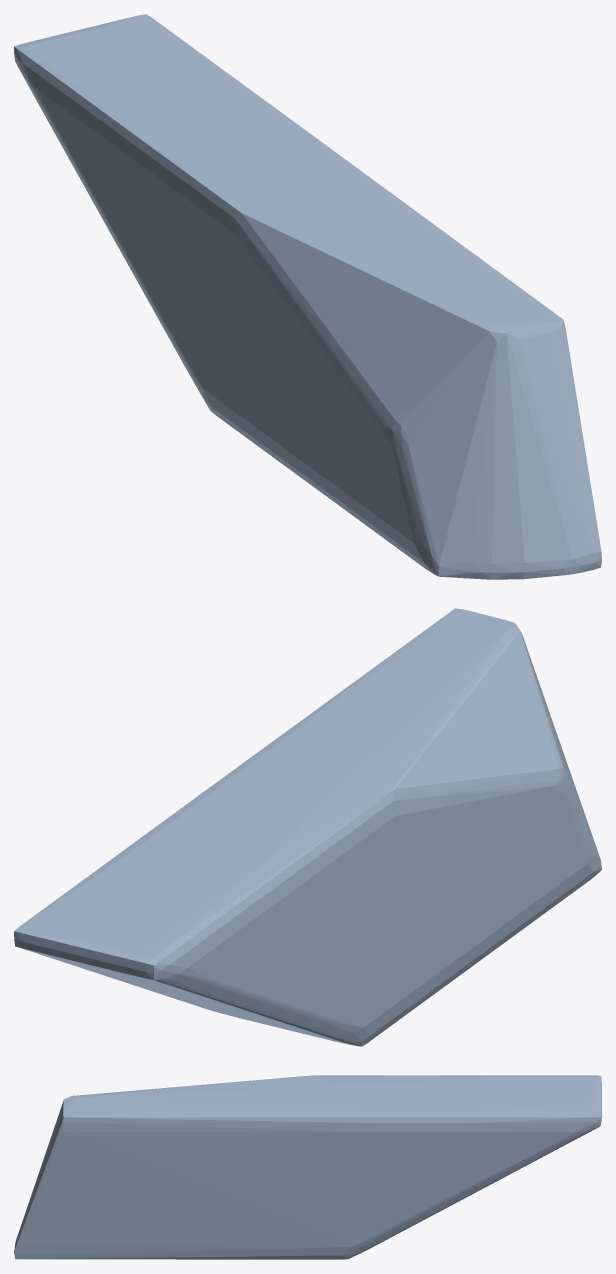
The model's file is left-toe-roll-0_part_6.obj.
3 renders of one model, top to bottom at view 1: azimuth 30°, elevation 25°; view 2: azimuth 150°, elevation 25°; view 3: azimuth 270°, elevation 25°, orthographic. The views are drawn at different scales.
Size of the model in its own units: 0.0234 by 0.0352 by 0.1304.
